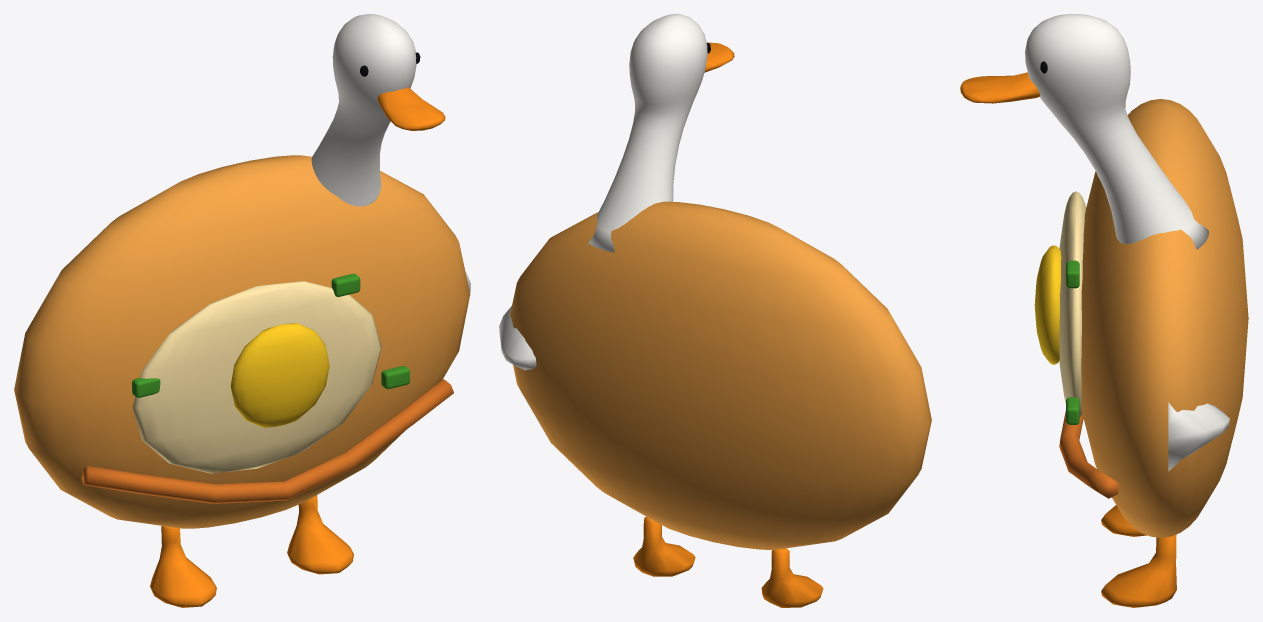
File: duck-eggpancake.glb
3 views of the same model, side by side, from view 1: azimuth 30°, elevation 25°; view 2: azimuth 150°, elevation 25°; view 3: azimuth 270°, elevation 25° (orthographic). The views are drawn at different scales.
Parts seen in each view (by area): view 1: duck-eggpancake; view 2: duck-eggpancake; view 3: duck-eggpancake.
Part boxes in pixels (<box>): duck-eggpancake: <box>14,14,470,607</box>; duck-eggpancake: <box>499,14,931,607</box>; duck-eggpancake: <box>960,14,1248,607</box>.
Bounding box in the file's own units: 0.8526 × 1 × 0.439.
Materials: 1 (1 with a texture image).
